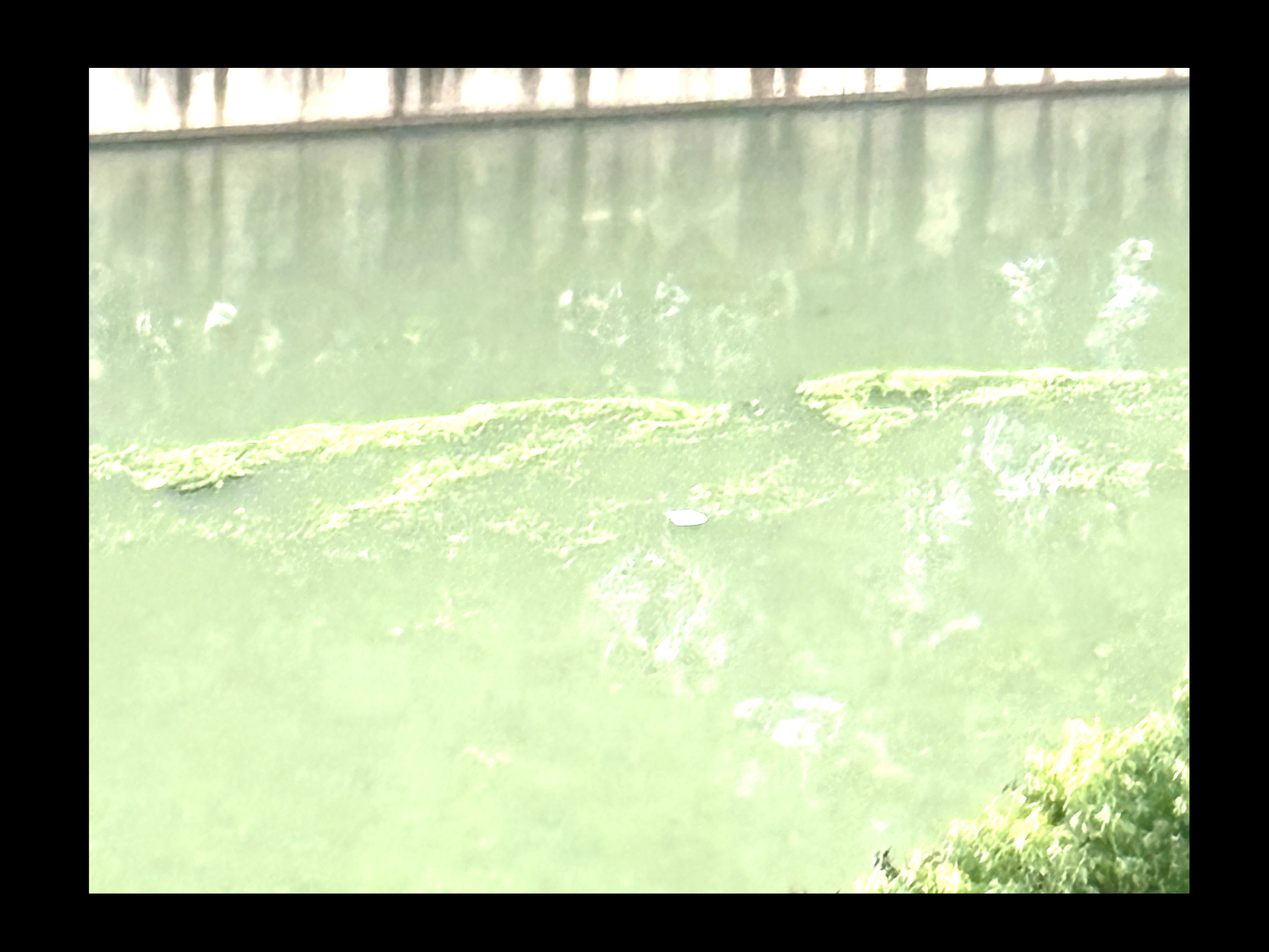Other: (135, 405, 716, 504), (811, 368, 1163, 437)
Plastic wastes: (658, 508, 711, 534)
